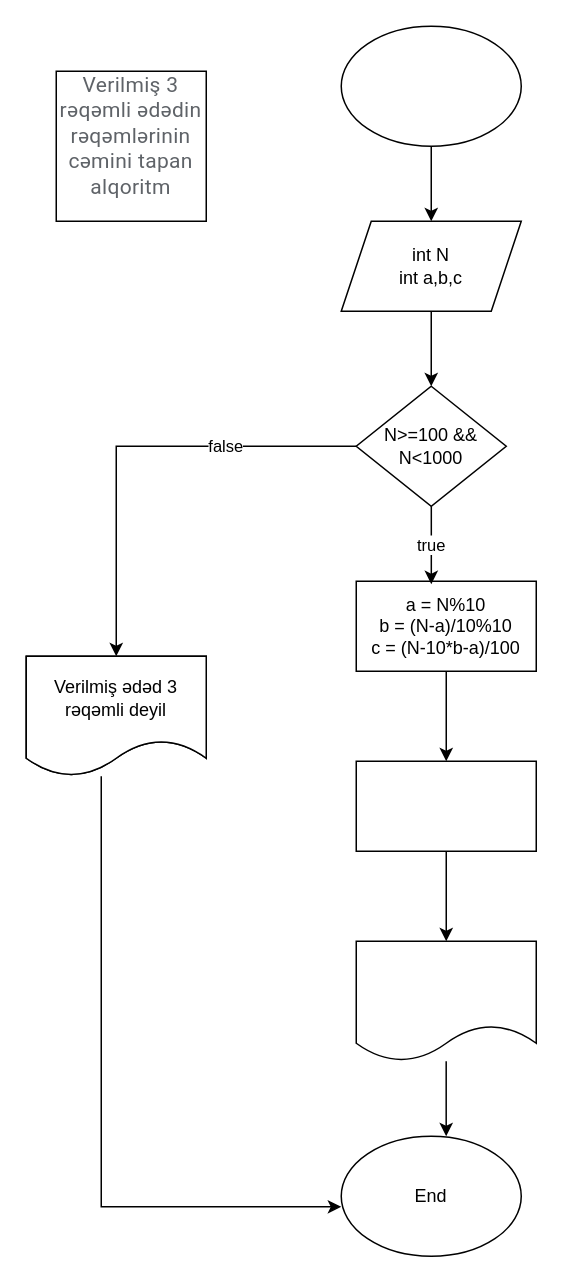
Some shapes in this 563 by 1283 pixel diagram are drawn without their labels. Here are the shapes that lost their labels. From the top down, the box of each, then its label:
(340, 25, 521, 146): Start
(355, 760, 536, 851): int sum = a+b+c
(355, 940, 536, 1061): print sum
